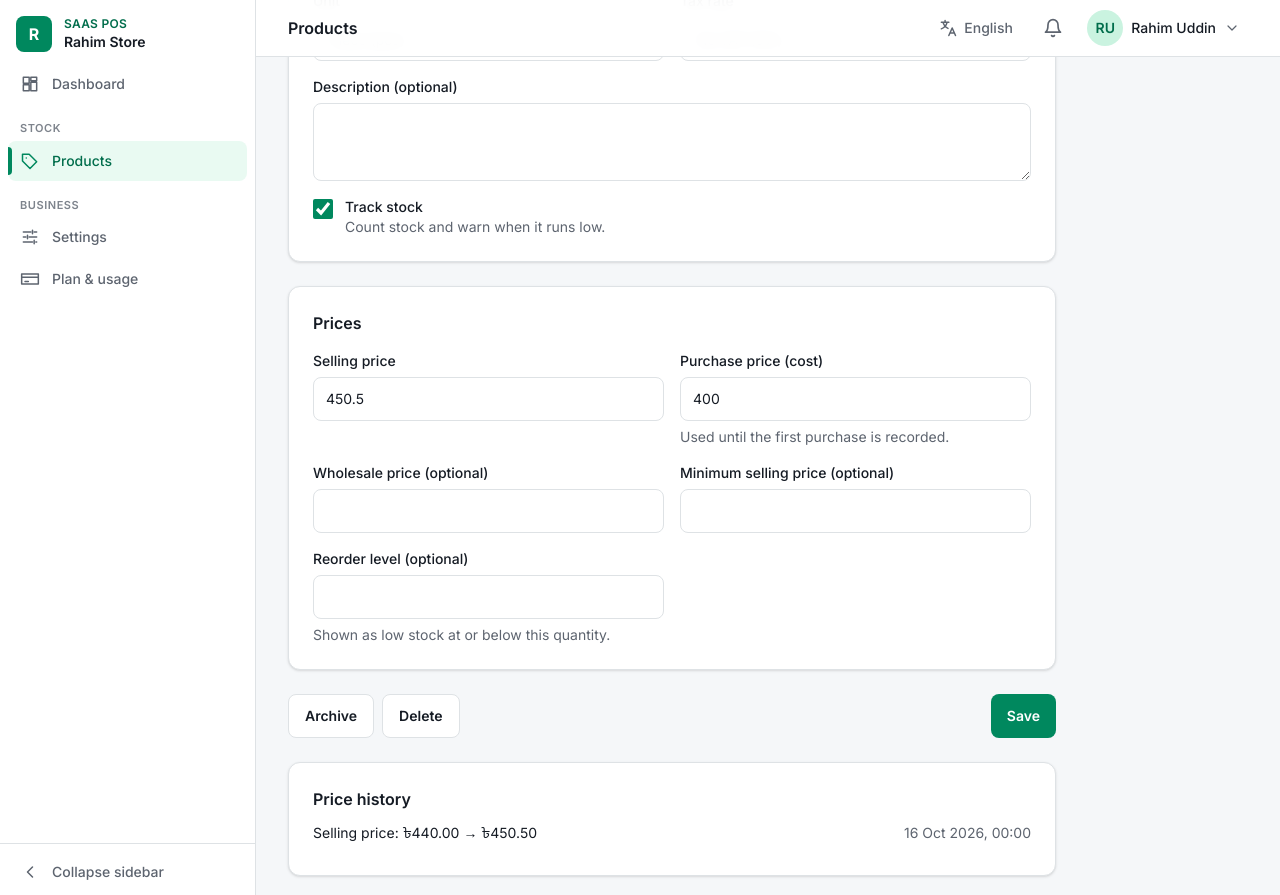
Test: products › updates with the version and asks to check again after a conflict
(page scrolled)
Check: the field labelled "Selling price" holds "450.5", box [313,377,664,421]
Check: the text "Selling price: ৳440.00 → ৳450.50" is shown, box [313,823,537,843]
Click the button "Save": click(1023, 716) [991,694,1056,738]
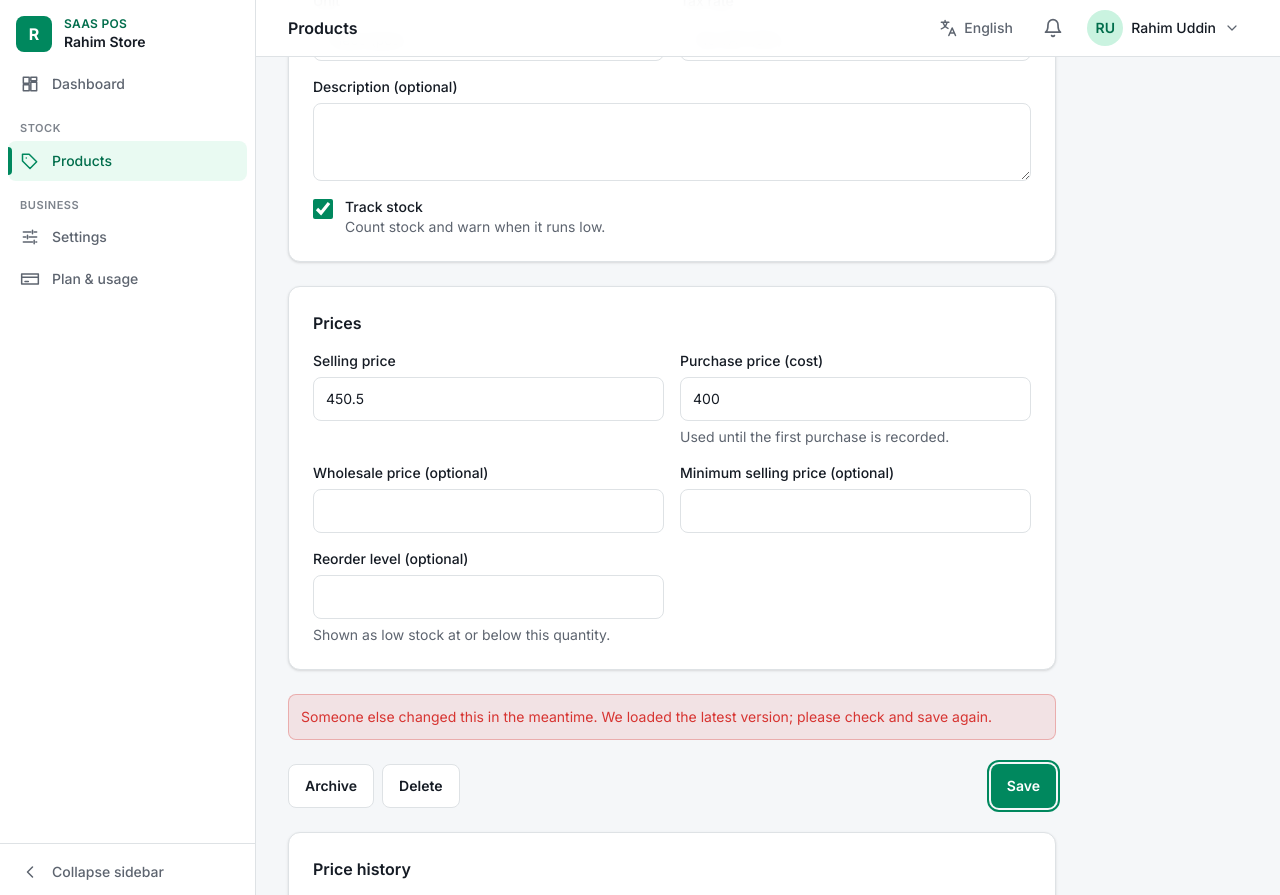
Check: the text "Someone else changed this" is shown, box [301,708,992,725]
